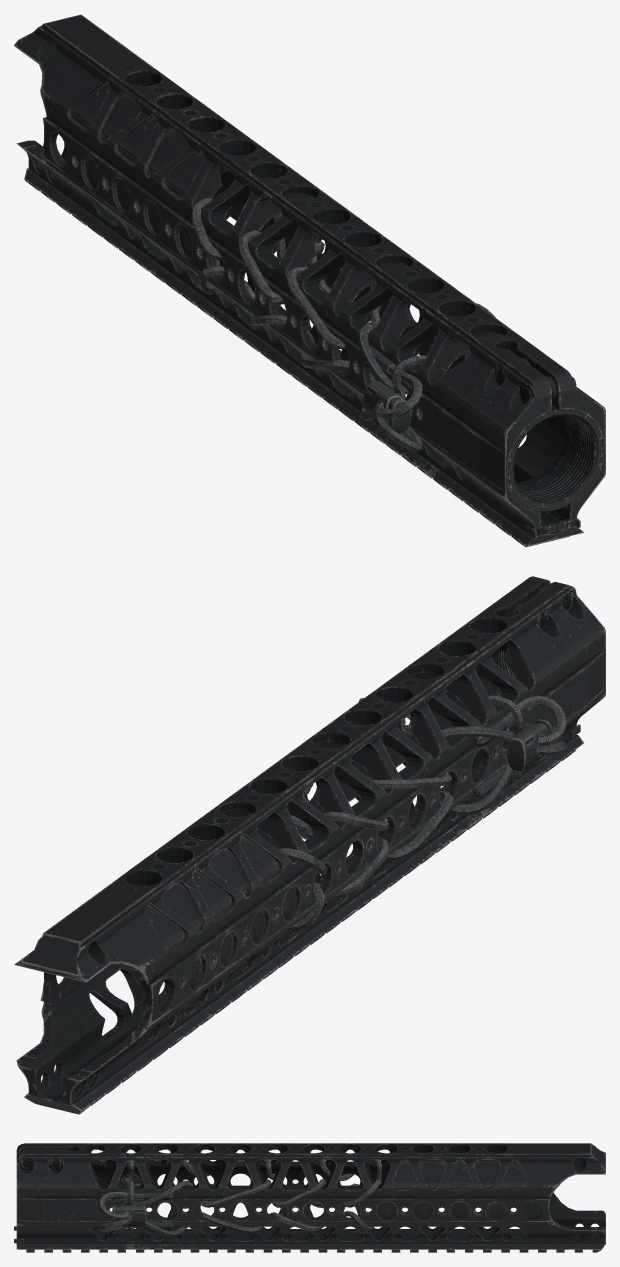
The picture shows the model from 3 angles, top to bottom: view 1: azimuth 30°, elevation 25°; view 2: azimuth 150°, elevation 25°; view 3: azimuth 270°, elevation 25°; orthographic projection. The views are drawn at different scales.
Parts seen in each view (by area): view 1: TW_595cf16b86f77427440c32e2_PZ_Import; view 2: TW_595cf16b86f77427440c32e2_PZ_Import; view 3: TW_595cf16b86f77427440c32e2_PZ_Import.
Part boxes in pixels (x1,y1,x2,y2): TW_595cf16b86f77427440c32e2_PZ_Import: (14, 14, 605, 547); TW_595cf16b86f77427440c32e2_PZ_Import: (14, 576, 605, 1114); TW_595cf16b86f77427440c32e2_PZ_Import: (14, 1143, 605, 1252).
Bounding box in the file's own units: 0.0388 × 0.1871 × 0.0341.
1 material, 1 textured.
